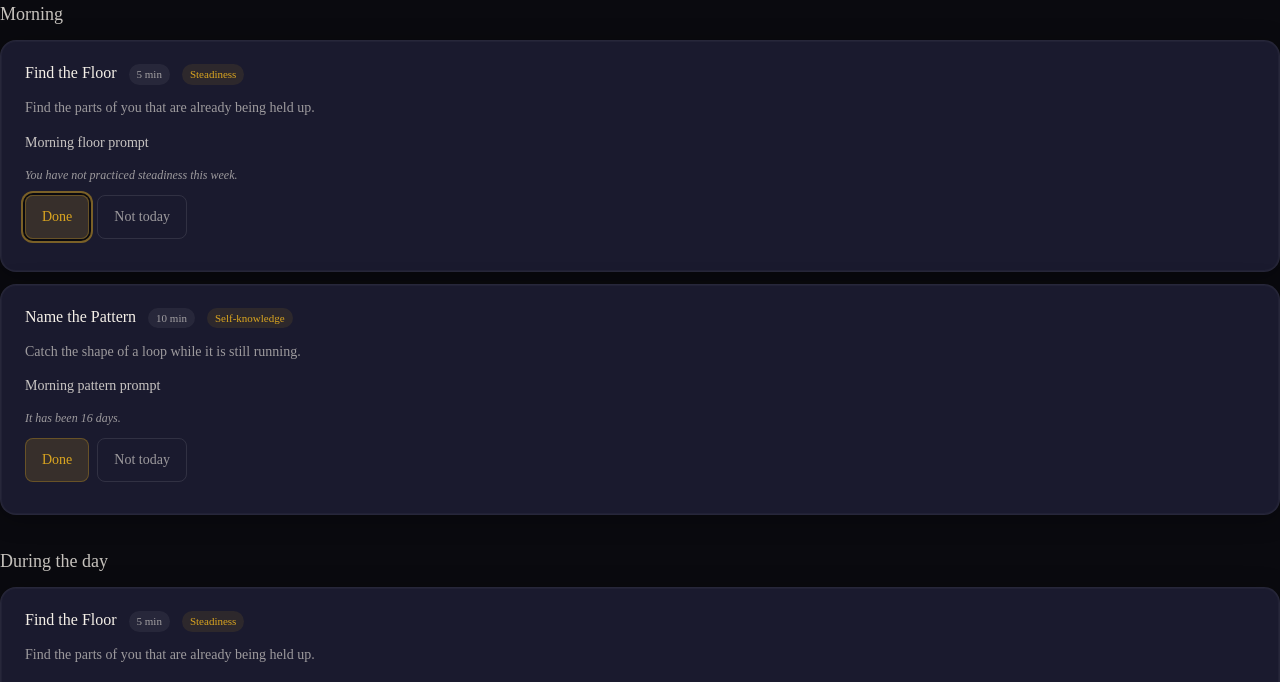
Test: DailyProtocol follow-ups › keeps focus inside the card when a practice is completed
What coordinates should you click on to do the following:
click the button "Done" below "Morning floor prompt"
I would click on:
 (57, 216)
Its box is [25,194,89,238].
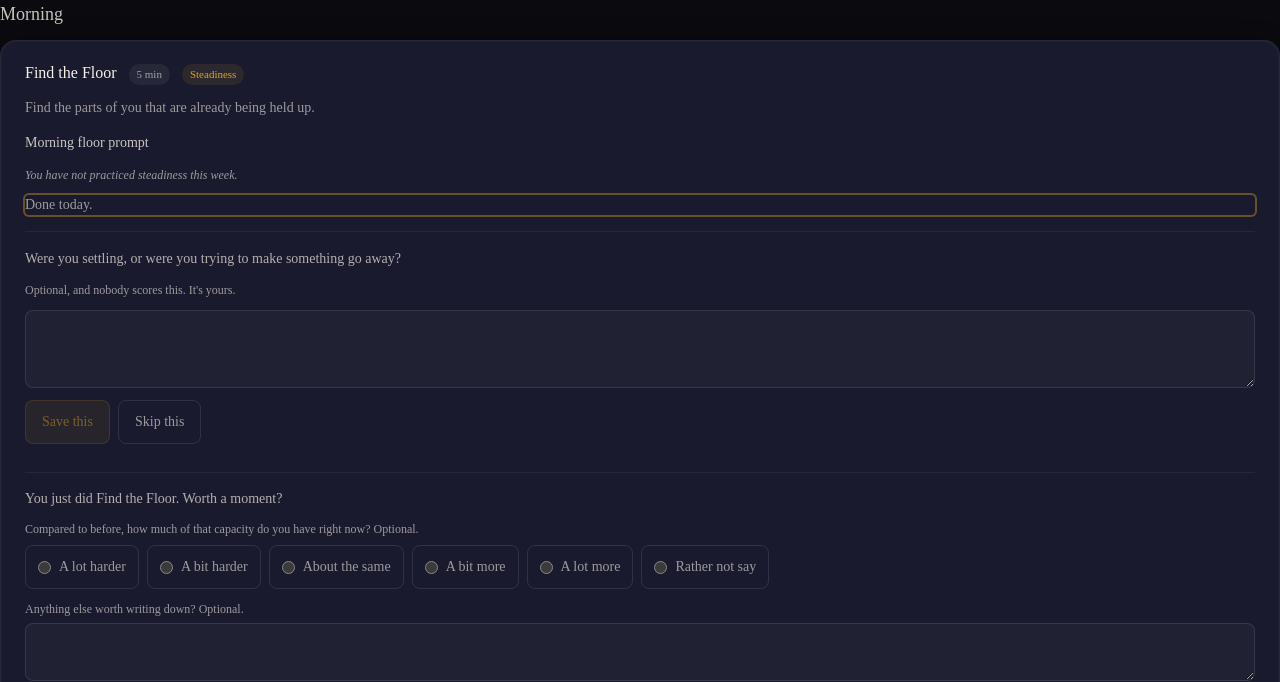
Result: the message reads "Done today." at [25,196,92,212]
